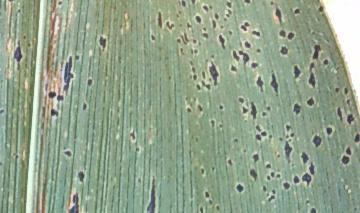tarspot: (62, 56, 74, 92), (147, 176, 156, 213), (12, 40, 23, 63), (209, 61, 219, 85), (269, 73, 279, 96), (284, 140, 293, 164), (255, 75, 265, 93), (70, 193, 79, 213), (301, 173, 312, 188), (218, 32, 227, 50), (292, 63, 302, 79), (312, 44, 322, 60), (238, 50, 250, 63), (98, 35, 107, 51), (250, 102, 258, 120), (274, 8, 283, 24), (312, 134, 322, 148), (307, 73, 316, 88), (300, 151, 310, 164), (336, 105, 344, 121), (157, 11, 164, 29), (292, 102, 301, 116), (249, 167, 258, 180), (201, 80, 211, 91), (231, 50, 240, 62), (49, 108, 59, 118), (346, 113, 355, 124), (62, 149, 72, 158), (166, 20, 175, 30), (306, 96, 315, 106), (341, 155, 350, 165), (78, 171, 85, 183), (279, 45, 288, 54), (86, 77, 94, 87), (183, 32, 191, 42), (288, 31, 296, 41), (210, 18, 217, 29), (308, 61, 315, 72), (48, 91, 57, 99), (82, 100, 88, 112), (200, 31, 209, 39), (244, 40, 252, 49), (252, 29, 261, 37), (236, 183, 244, 192), (282, 181, 290, 190), (197, 103, 204, 113), (252, 153, 259, 163), (310, 162, 315, 175), (201, 5, 209, 13), (230, 64, 238, 72), (267, 194, 275, 202), (195, 15, 202, 24), (253, 134, 262, 141), (326, 127, 333, 136), (345, 146, 352, 155), (293, 175, 300, 184), (130, 130, 136, 140), (354, 133, 360, 143), (57, 95, 65, 102), (195, 83, 202, 91), (186, 21, 193, 29), (237, 96, 245, 103), (241, 106, 248, 114), (251, 62, 259, 69), (293, 8, 301, 15), (254, 124, 261, 132), (203, 190, 210, 198), (201, 70, 207, 79), (192, 73, 199, 80), (244, 20, 251, 27), (241, 25, 248, 32), (334, 86, 341, 93), (285, 124, 292, 131), (280, 30, 286, 38), (318, 5, 324, 13), (227, 158, 233, 166), (137, 177, 143, 185), (200, 167, 206, 175), (210, 119, 215, 128), (150, 34, 156, 41), (214, 12, 220, 19), (226, 1, 232, 8), (323, 58, 329, 65), (261, 111, 268, 117), (199, 206, 205, 213), (265, 163, 272, 169), (310, 206, 316, 213), (22, 33, 27, 41), (262, 184, 267, 192), (191, 67, 197, 73), (218, 123, 224, 129), (219, 104, 225, 110), (243, 1, 252, 5), (344, 86, 348, 95), (262, 131, 268, 137), (265, 175, 271, 181), (17, 7, 22, 14), (182, 1, 187, 8), (190, 1, 197, 6), (189, 59, 194, 66), (192, 95, 197, 102), (228, 29, 233, 36), (215, 204, 220, 211), (271, 171, 276, 178), (180, 47, 184, 55), (195, 135, 199, 143), (27, 42, 32, 48), (57, 1, 63, 6), (75, 55, 80, 61), (179, 22, 184, 28), (167, 75, 172, 81), (233, 138, 239, 143), (184, 95, 189, 101), (220, 24, 225, 30), (225, 14, 231, 19), (227, 9, 233, 14), (346, 99, 351, 105), (208, 199, 213, 205), (276, 153, 281, 159), (242, 148, 247, 154), (305, 198, 310, 204), (353, 206, 358, 212), (186, 108, 193, 112), (269, 133, 273, 140), (177, 38, 182, 43), (211, 53, 216, 58), (194, 49, 199, 54), (193, 39, 198, 44), (183, 41, 188, 46), (202, 26, 207, 31), (257, 48, 262, 53), (270, 1, 275, 6), (290, 132, 295, 137), (15, 154, 19, 160), (190, 49, 194, 55), (136, 147, 140, 152), (178, 10, 182, 15), (223, 18, 228, 22), (267, 106, 271, 111), (279, 137, 284, 141), (272, 189, 276, 194), (277, 173, 281, 178), (1, 108, 4, 114), (199, 41, 202, 47), (212, 166, 215, 172), (210, 5, 213, 10), (1, 161, 3, 167), (286, 134, 289, 138), (289, 138, 292, 142)
